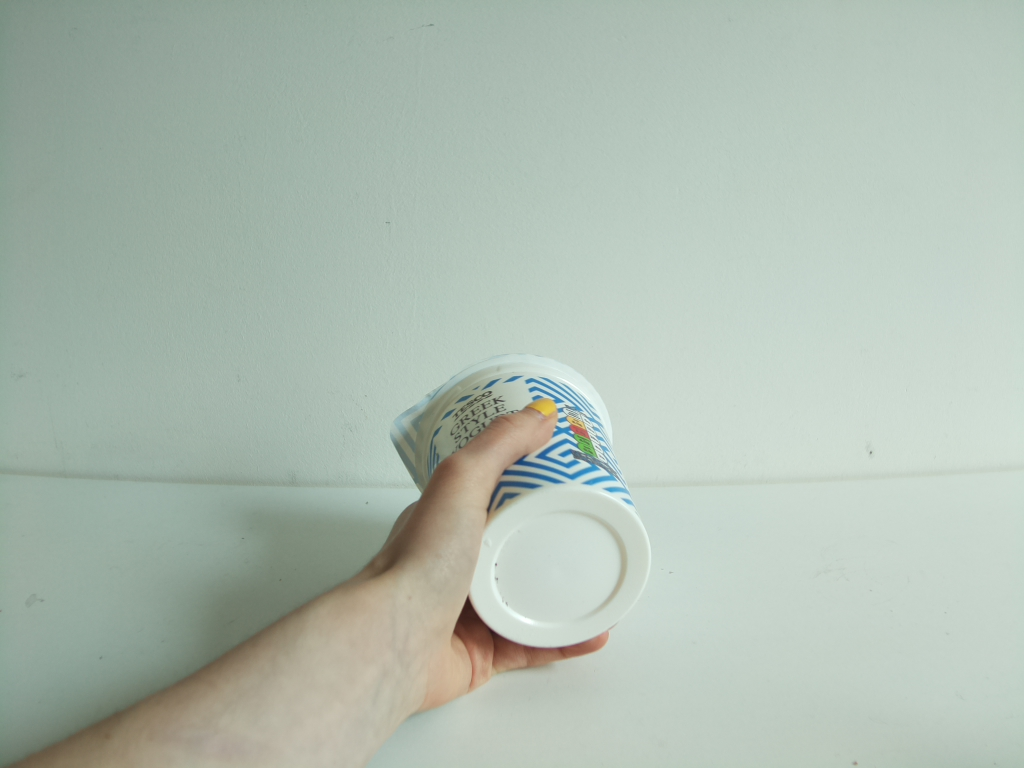yogurt: (384, 347, 654, 659)
